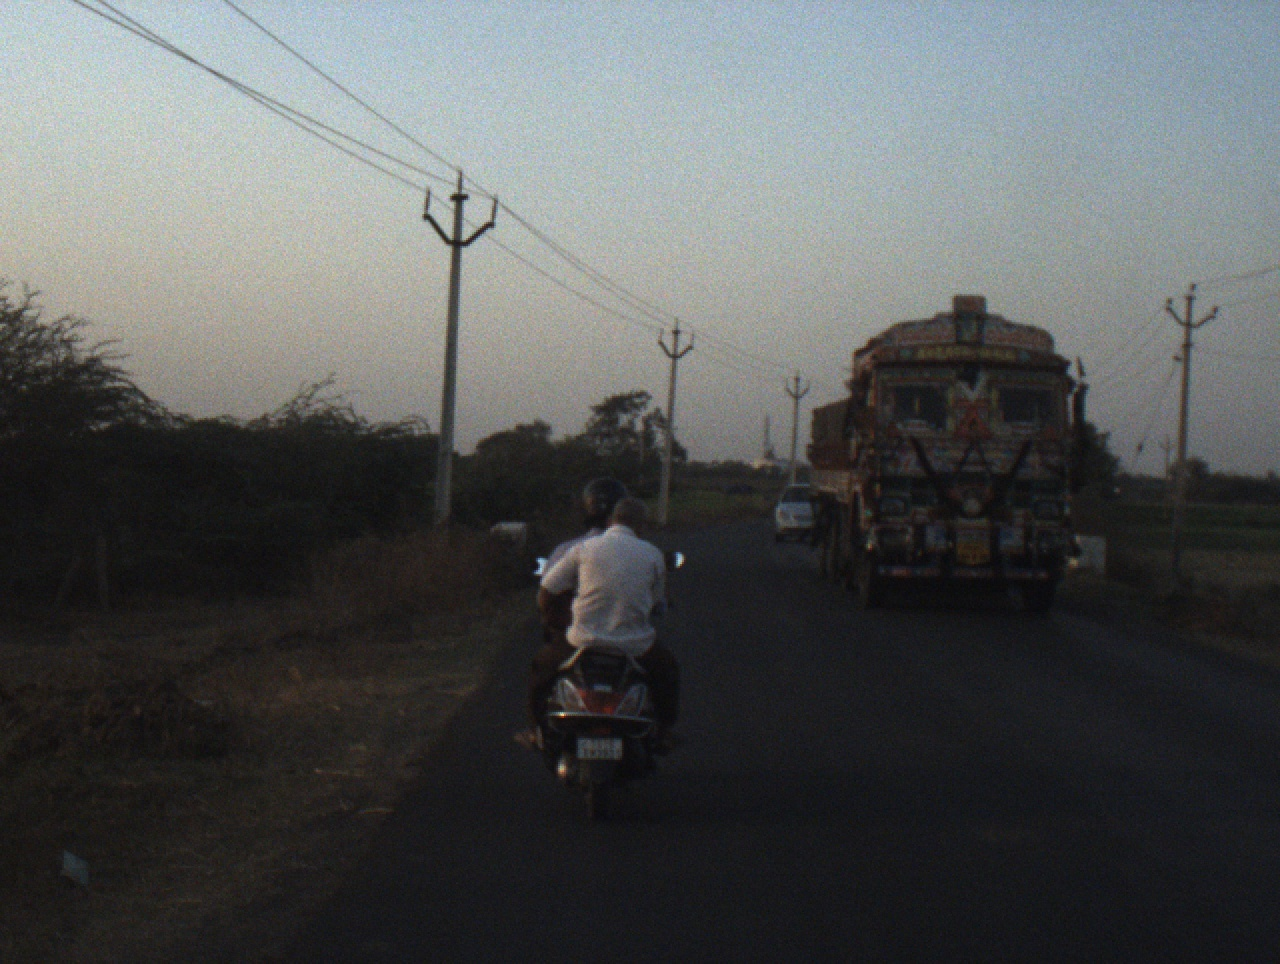car: (768, 480, 816, 550)
motorcycle: (525, 546, 687, 821)
rider: (507, 497, 685, 782), (538, 473, 631, 590)
truck: (795, 291, 1093, 618)
